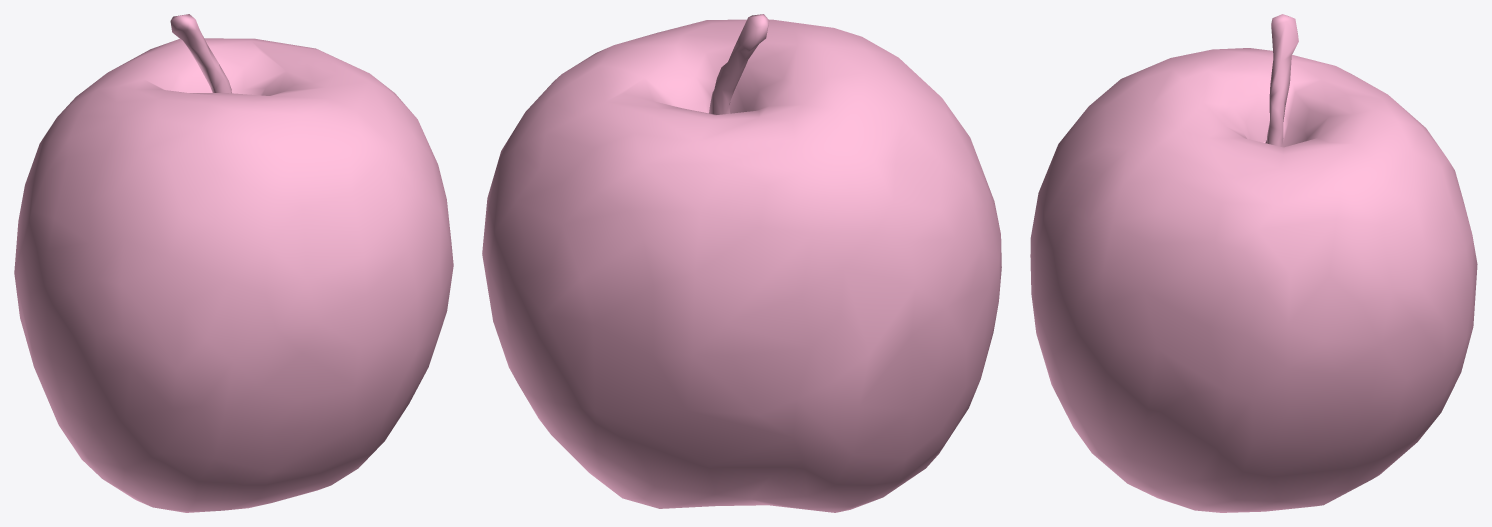
File: nr-apple-3.glb
The picture shows the model from 3 angles, left to right: view 1: azimuth 30°, elevation 25°; view 2: azimuth 150°, elevation 25°; view 3: azimuth 270°, elevation 25°; orthographic projection. The views are drawn at different scales.
Visible parts, largest first — view 1: nr-apple-3-0; view 2: nr-apple-3-0; view 3: nr-apple-3-0.
Part boxes in pixels (left/top/right/bottom): nr-apple-3-0: left=14, top=14, right=453, bottom=512; nr-apple-3-0: left=482, top=14, right=1001, bottom=512; nr-apple-3-0: left=1030, top=14, right=1477, bottom=512.
Bounding box in the file's own units: 0.9133 × 1 × 0.8994.
